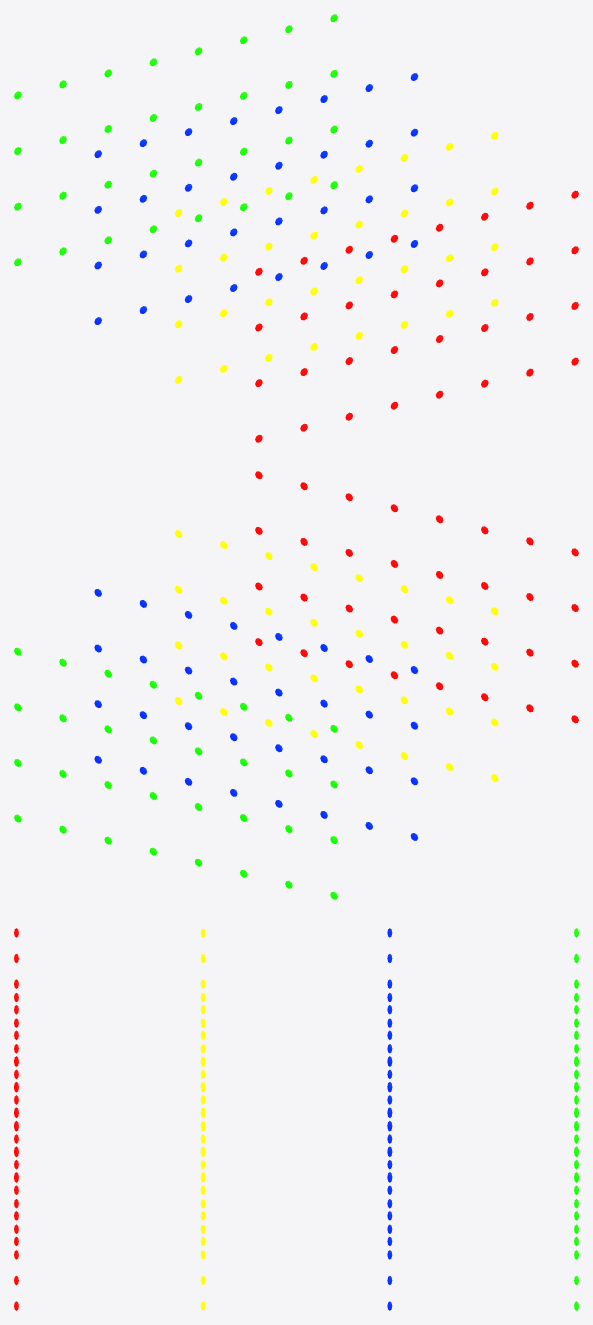
Rendered from drone_phases.fbx.
3 renders of one model, top to bottom at view 1: azimuth 30°, elevation 25°; view 2: azimuth 150°, elevation 25°; view 3: azimuth 270°, elevation 25°, orthographic. The views are drawn at different scales.
Visible parts, largest first — view 1: phases; view 2: phases; view 3: phases.
Part boxes in pixels (left/top/right/bottom): phases: left=14, top=14, right=578, bottom=442; phases: left=14, top=471, right=578, bottom=899; phases: left=14, top=928, right=578, bottom=1310.
Bounding box in the file's own units: 4.56 × 2.36 × 5.93.
